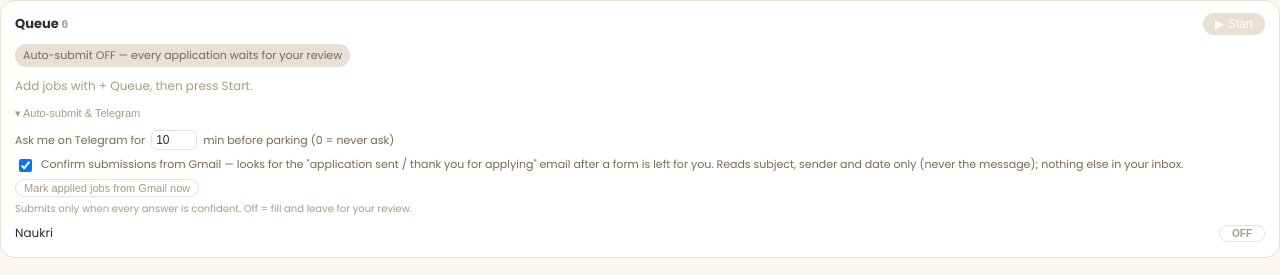
Test: the reconcile button reports how many jobs it marked applied
Click the button "Mark applied jobs from Gmail now" at (107, 188), box top-left (15, 179), bottom-right (199, 197)
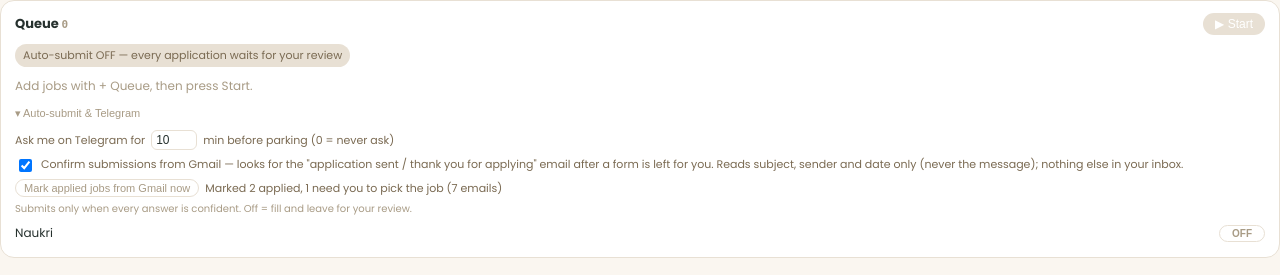
Result: the text "Marked 2 applied, 1 need you to pick the job (7 emails)" is shown at top-left (205, 180), bottom-right (502, 196)
